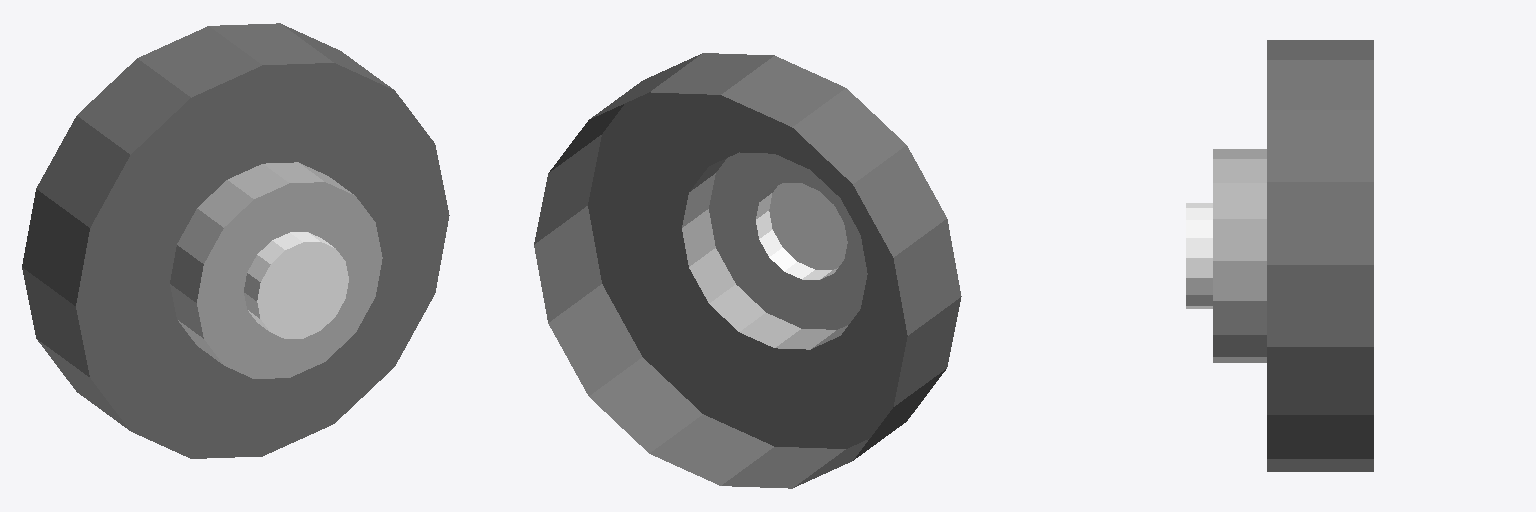
3 renders of one model, left to right at view 1: azimuth 30°, elevation 25°; view 2: azimuth 150°, elevation 25°; view 3: azimuth 270°, elevation 25°, orthographic.
Parts seen in each view (by area): view 1: command_center; view 2: command_center; view 3: command_center.
Boxes of the visible parts, <box> form: command_center: <box>22,23,449,458</box>; command_center: <box>534,53,961,488</box>; command_center: <box>1186,40,1373,471</box>.
Size of the model in its own units: 4 by 4 by 1.75.
1 materials, 1 textured.